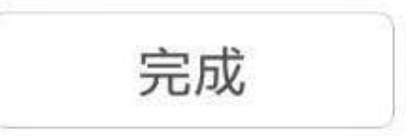Button: (1, 1, 405, 139)
